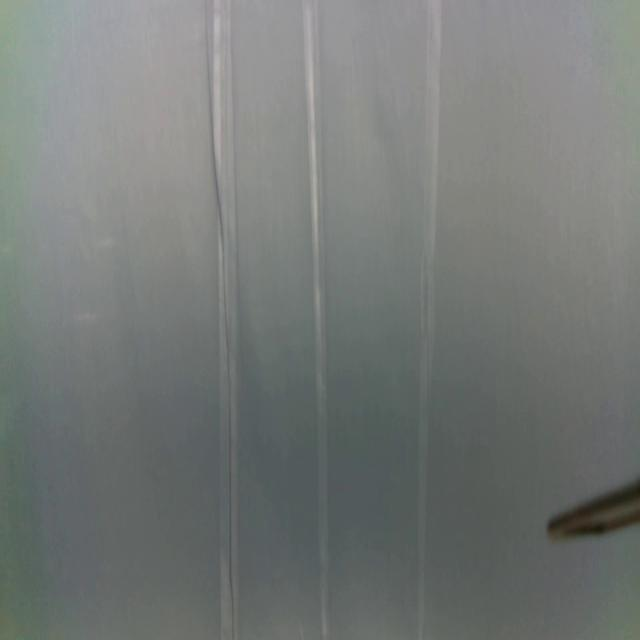crease: (203, 0, 239, 640), (410, 0, 443, 639), (302, 0, 332, 640)
